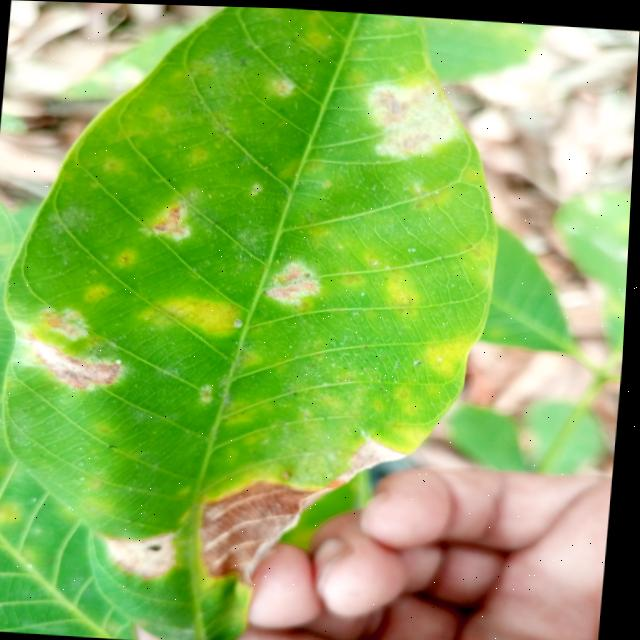Leaf-Blight: (197, 474, 337, 590), (106, 527, 184, 582), (340, 434, 414, 483)
